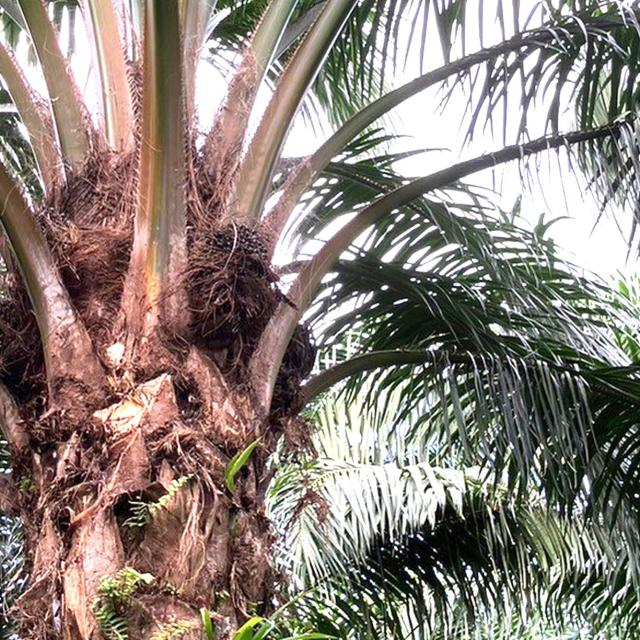unripe: (202, 222, 270, 315)
